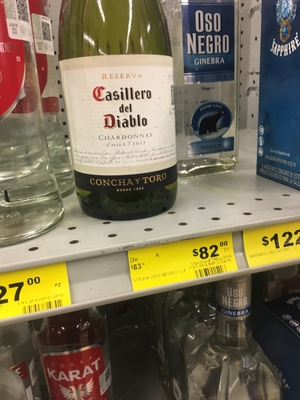casillero del diablo chardonnay: (54, 6, 186, 216)
